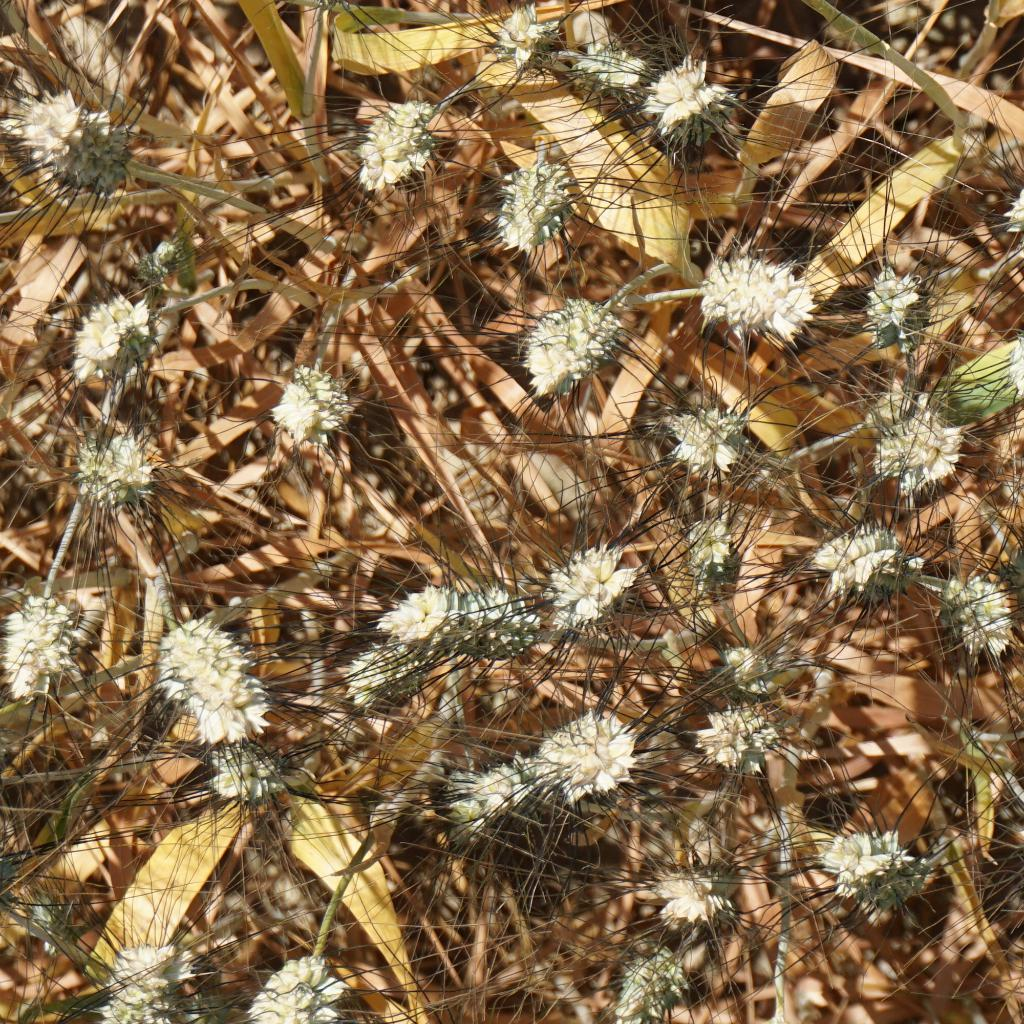0-0: (153, 610, 279, 736), (376, 567, 535, 653), (864, 395, 988, 498), (512, 273, 626, 384), (70, 421, 177, 523), (94, 925, 204, 1024), (342, 92, 454, 188), (17, 86, 134, 177), (697, 240, 809, 334), (45, 277, 149, 377), (543, 705, 647, 803), (0, 574, 82, 691), (482, 145, 572, 248), (539, 533, 633, 624), (251, 939, 350, 1024), (685, 698, 787, 779), (614, 935, 712, 1017), (844, 251, 931, 336), (937, 555, 1012, 649), (667, 393, 744, 478), (6, 886, 90, 961), (826, 823, 903, 903), (637, 864, 728, 929), (273, 366, 354, 433), (336, 635, 417, 702), (633, 60, 718, 123), (815, 521, 893, 584), (449, 742, 519, 811), (484, 7, 561, 69), (695, 498, 754, 574), (720, 633, 793, 691), (569, 43, 640, 94), (1006, 153, 1024, 251), (1010, 311, 1024, 401)
